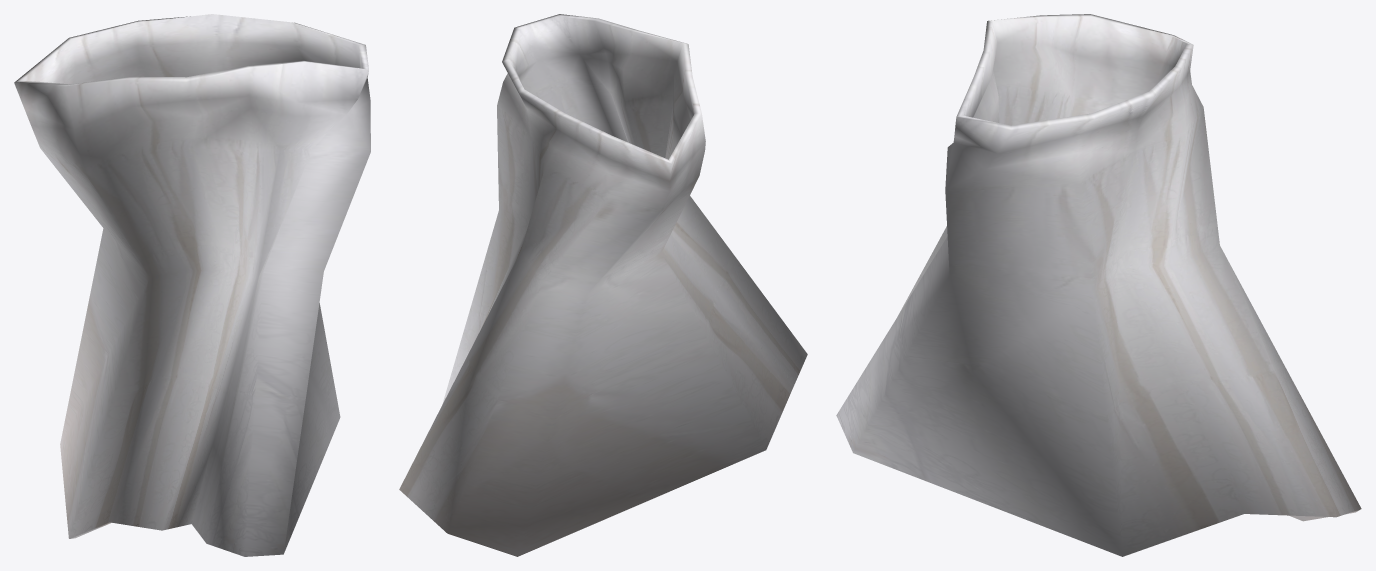
Rendered from m-bottom4.fbx.
The picture shows the model from 3 angles, left to right: view 1: azimuth 30°, elevation 25°; view 2: azimuth 150°, elevation 25°; view 3: azimuth 270°, elevation 25°; orthographic projection. The views are drawn at different scales.
Visible parts, largest first — view 1: M.Bottom.Shor.011; view 2: M.Bottom.Shor.011; view 3: M.Bottom.Shor.011.
Part boxes in pixels (x1=…): M.Bottom.Shor.011: x1=14, y1=14, x2=370, y2=556; M.Bottom.Shor.011: x1=399, y1=14, x2=807, y2=556; M.Bottom.Shor.011: x1=836, y1=14, x2=1361, y2=556.
Bounding box in the file's own units: 381 × 549 × 542.
